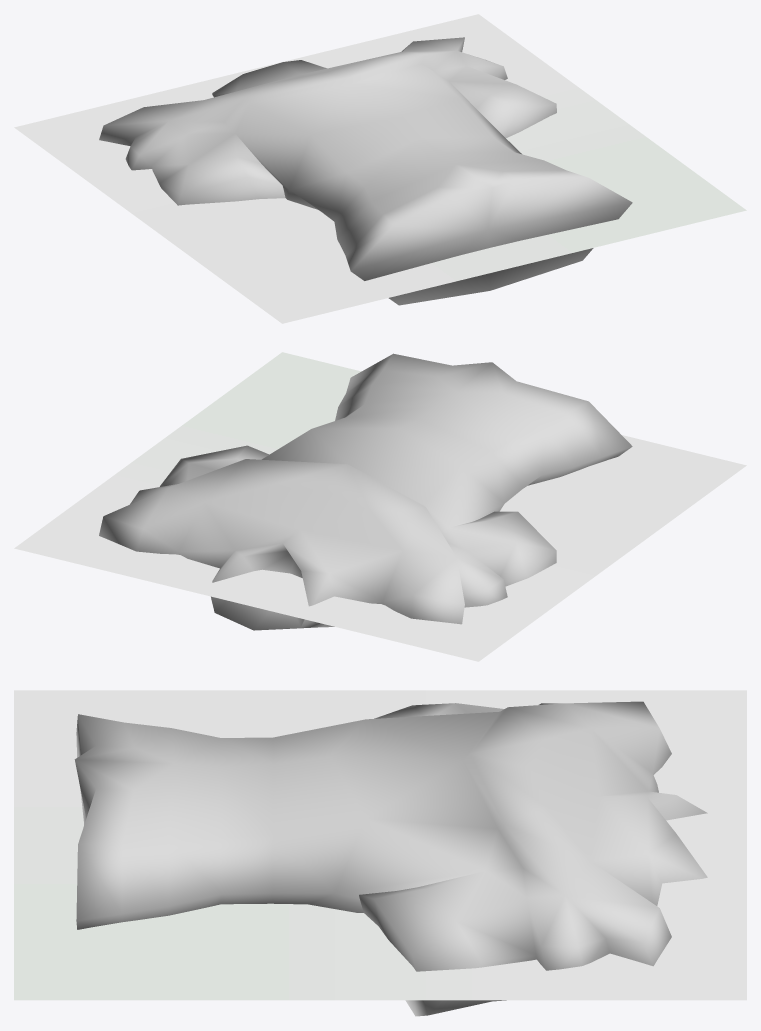
Rendered from ITAR_GRD_M_PLAYER.glb.
The picture shows the model from 3 angles, top to bottom: view 1: azimuth 30°, elevation 25°; view 2: azimuth 150°, elevation 25°; view 3: azimuth 270°, elevation 25°; orthographic projection. The views are drawn at different scales.
Visible parts, largest first — view 1: Mesh; view 2: Mesh; view 3: Mesh.
Part boxes in pixels (x1=…): Mesh: x1=14, y1=14, x2=746, y2=323; Mesh: x1=14, y1=352, x2=746, y2=661; Mesh: x1=14, y1=690, x2=746, y2=1016.
Bounding box in the file's own units: 0.8191 × 0.2024 × 0.8191.
Materials: 2 (1 with a texture image).
